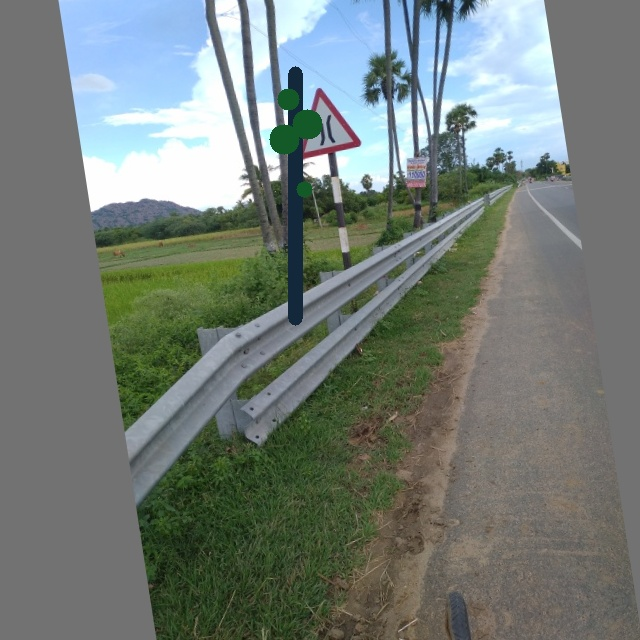Narrow_Bridge: (281, 76, 375, 166)
